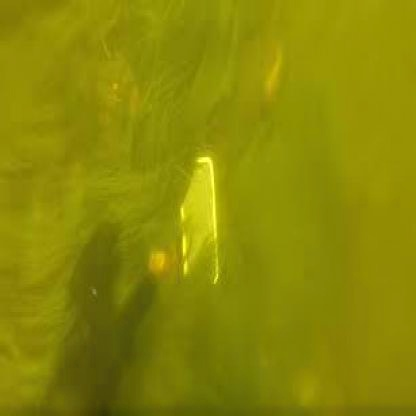cellphone: (180, 154, 218, 286)
